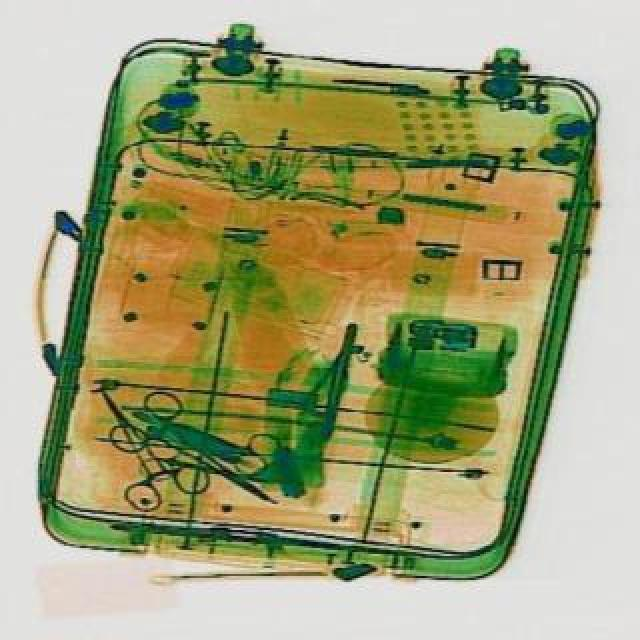pliers: (98, 378, 298, 534), (64, 370, 212, 522), (140, 394, 286, 490), (126, 432, 230, 504)
